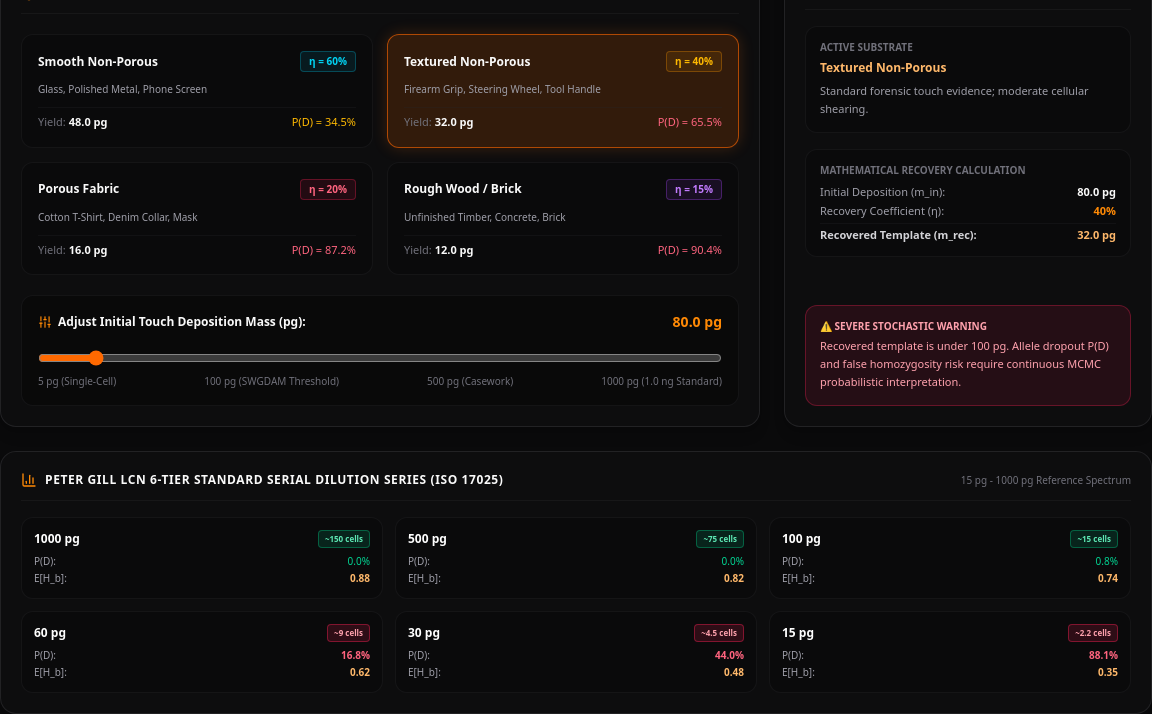
Test case: Subsystem 04: Touch DNA & Low-Template (LTDNA) Stochastic Modeling Engine › User Actions, Clipboard Copy & Offline Client Fallback › renders Peter Gill LCN 6-Tier Reference Dilution series in Tab 1 and updates initial mass on click
The width and height of the screenshot is (1152, 714).
(page scrolled)
Click the button "60 pg ~9 cells P(D): 16.8% E[H_b]: 0.62": (349, 633) [21,611,383,693]
(page scrolled)
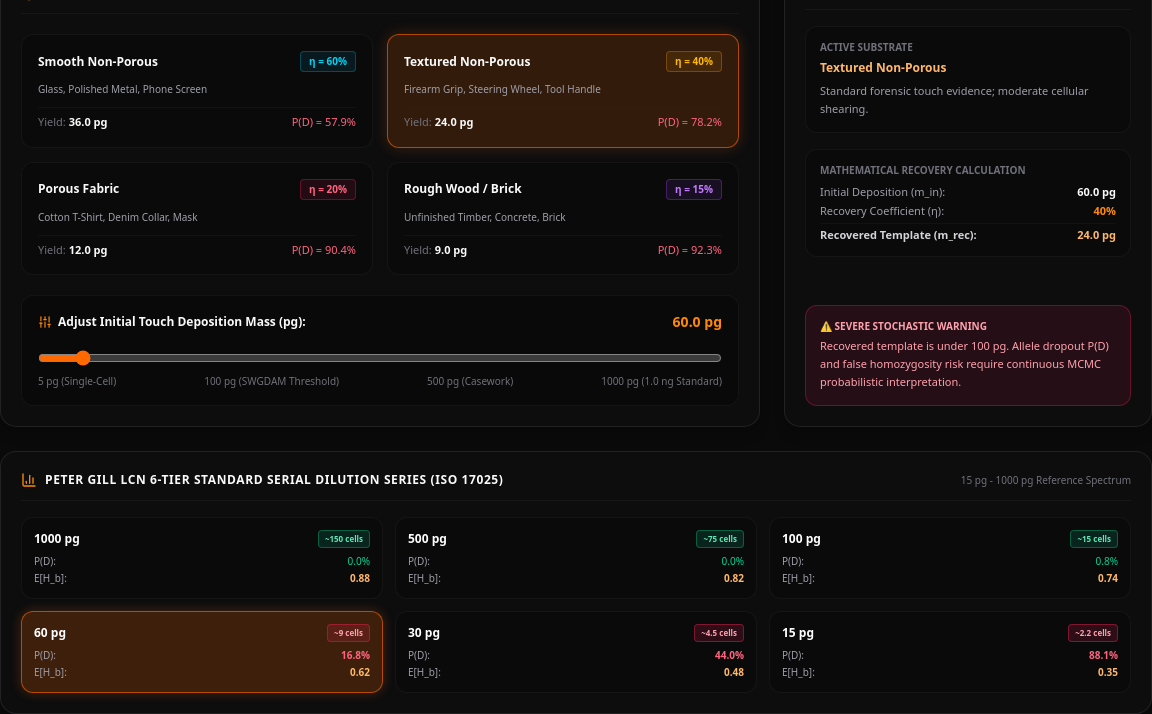
expect the text "60.0 pg" is shown: met, box [673,312,722,332]
